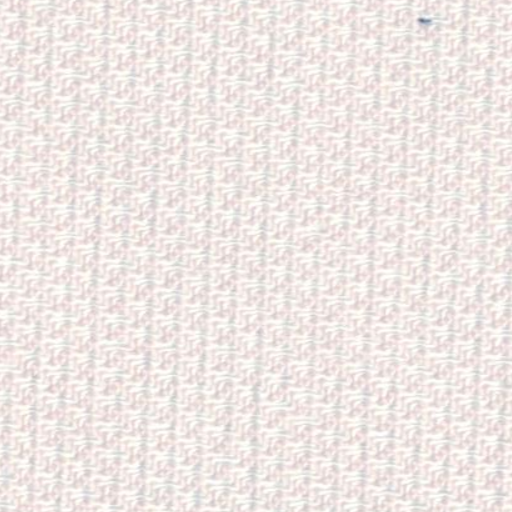WuZi: (404, 6, 444, 38)
